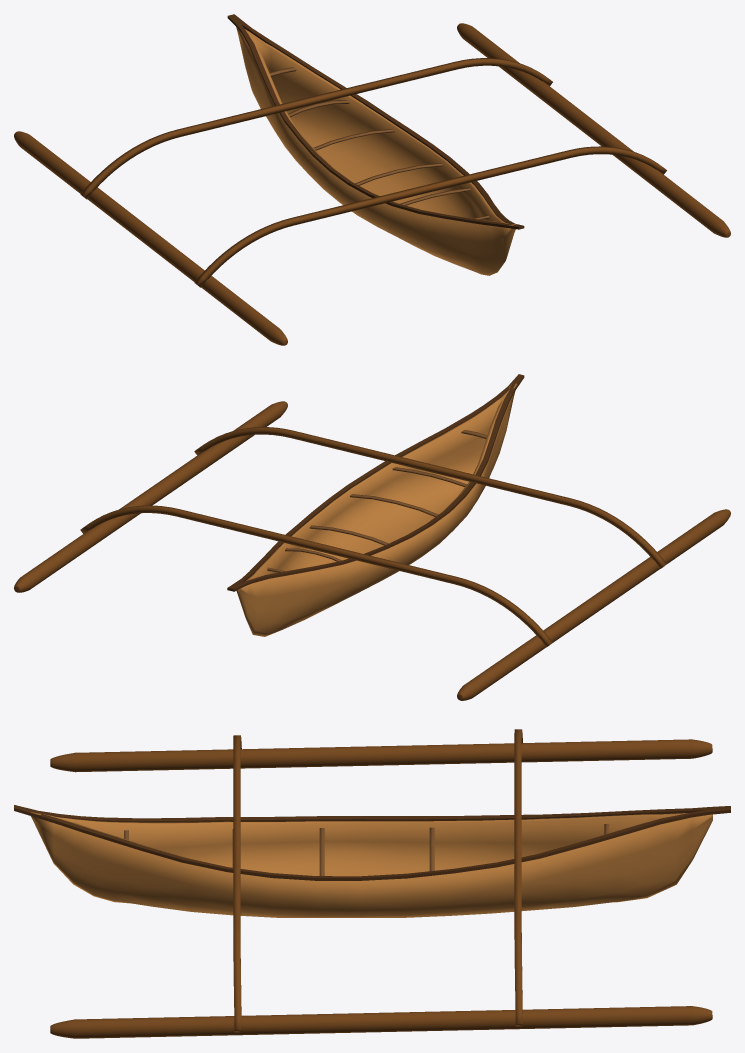
The model's file is Canoe Small.fbx.
3 renders of one model, top to bottom at view 1: azimuth 30°, elevation 25°; view 2: azimuth 150°, elevation 25°; view 3: azimuth 270°, elevation 25°, orthographic. The views are drawn at different scales.
Parts seen in each view (by area): view 1: Canoe, Arms, Bevel, Handle; view 2: Canoe, Arms, Bevel, Handle; view 3: Canoe, Arms, Bevel, Handle.
Part boxes in pixels (x1,y1,x2,y2): Canoe: (236,27,516,275); Arms: (14,23,730,345); Bevel: (227,14,524,229); Handle: (269,67,489,219); Canoe: (236,382,516,636); Arms: (14,401,730,700); Bevel: (227,374,524,591); Handle: (267,430,487,572); Canoe: (30,809,712,917); Arms: (50,729,712,1038); Bevel: (14,805,730,880); Handle: (124,824,609,875).
Size of the model in its own units: 476 by 78.31 by 510.
